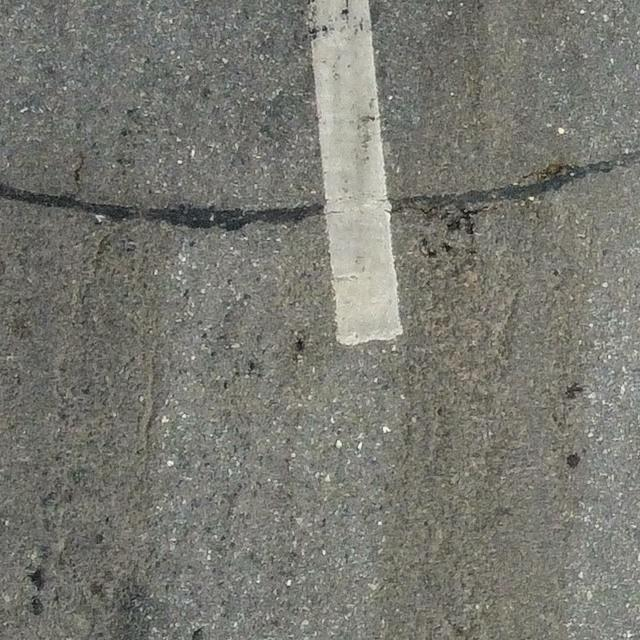TransverseCrack: (1, 148, 640, 231)
